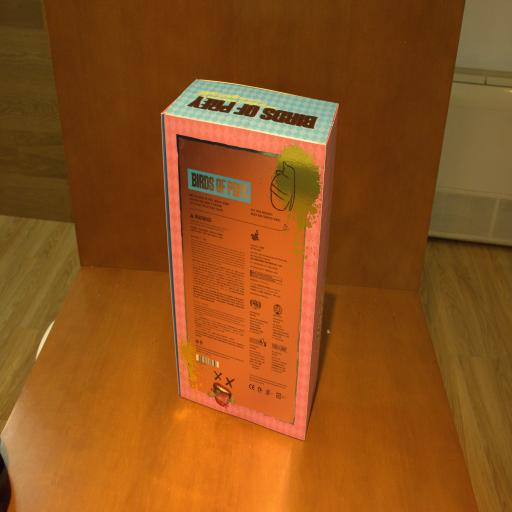Harley: (162, 79, 340, 444)
